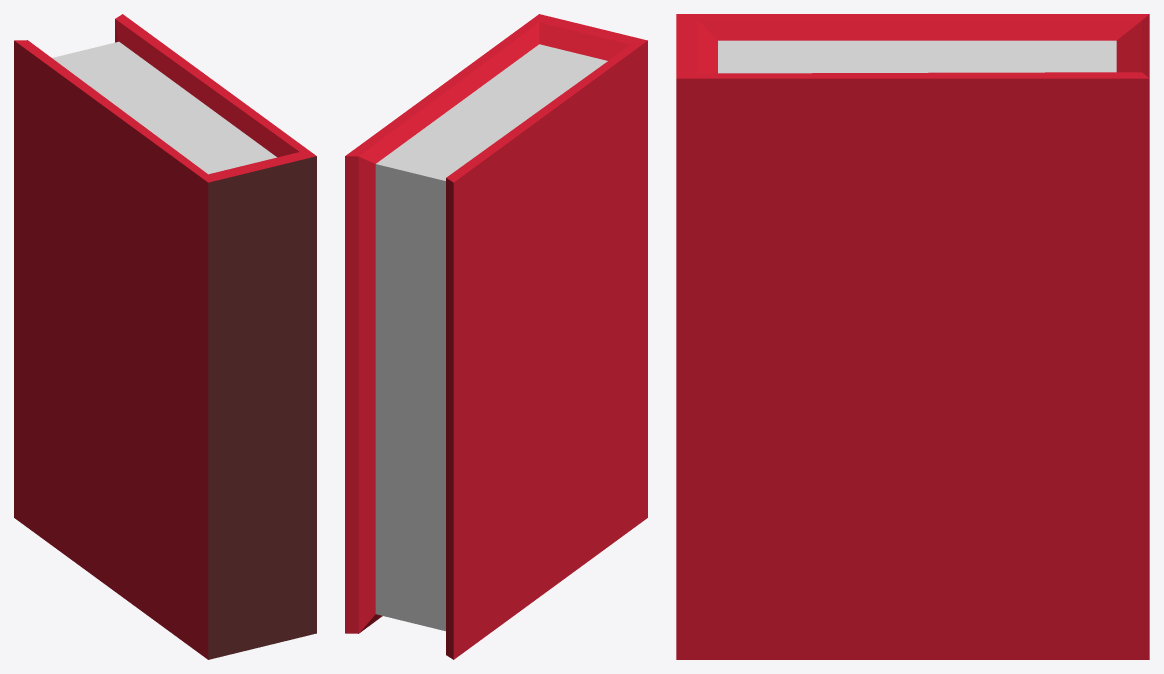
Rendered from book.fbx.
3 views of the same model, side by side, from view 1: azimuth 30°, elevation 25°; view 2: azimuth 150°, elevation 25°; view 3: azimuth 270°, elevation 25° (orthographic). The views are drawn at different scales.
Parts seen in each view (by area): view 1: _book; view 2: _book; view 3: _book.
Part boxes in pixels (left/top/right/bottom): _book: left=14, top=14, right=316, bottom=659; _book: left=345, top=14, right=647, bottom=659; _book: left=676, top=14, right=1149, bottom=659.
Bounding box in the file's own units: 20.89 × 87.71 × 64.68.
